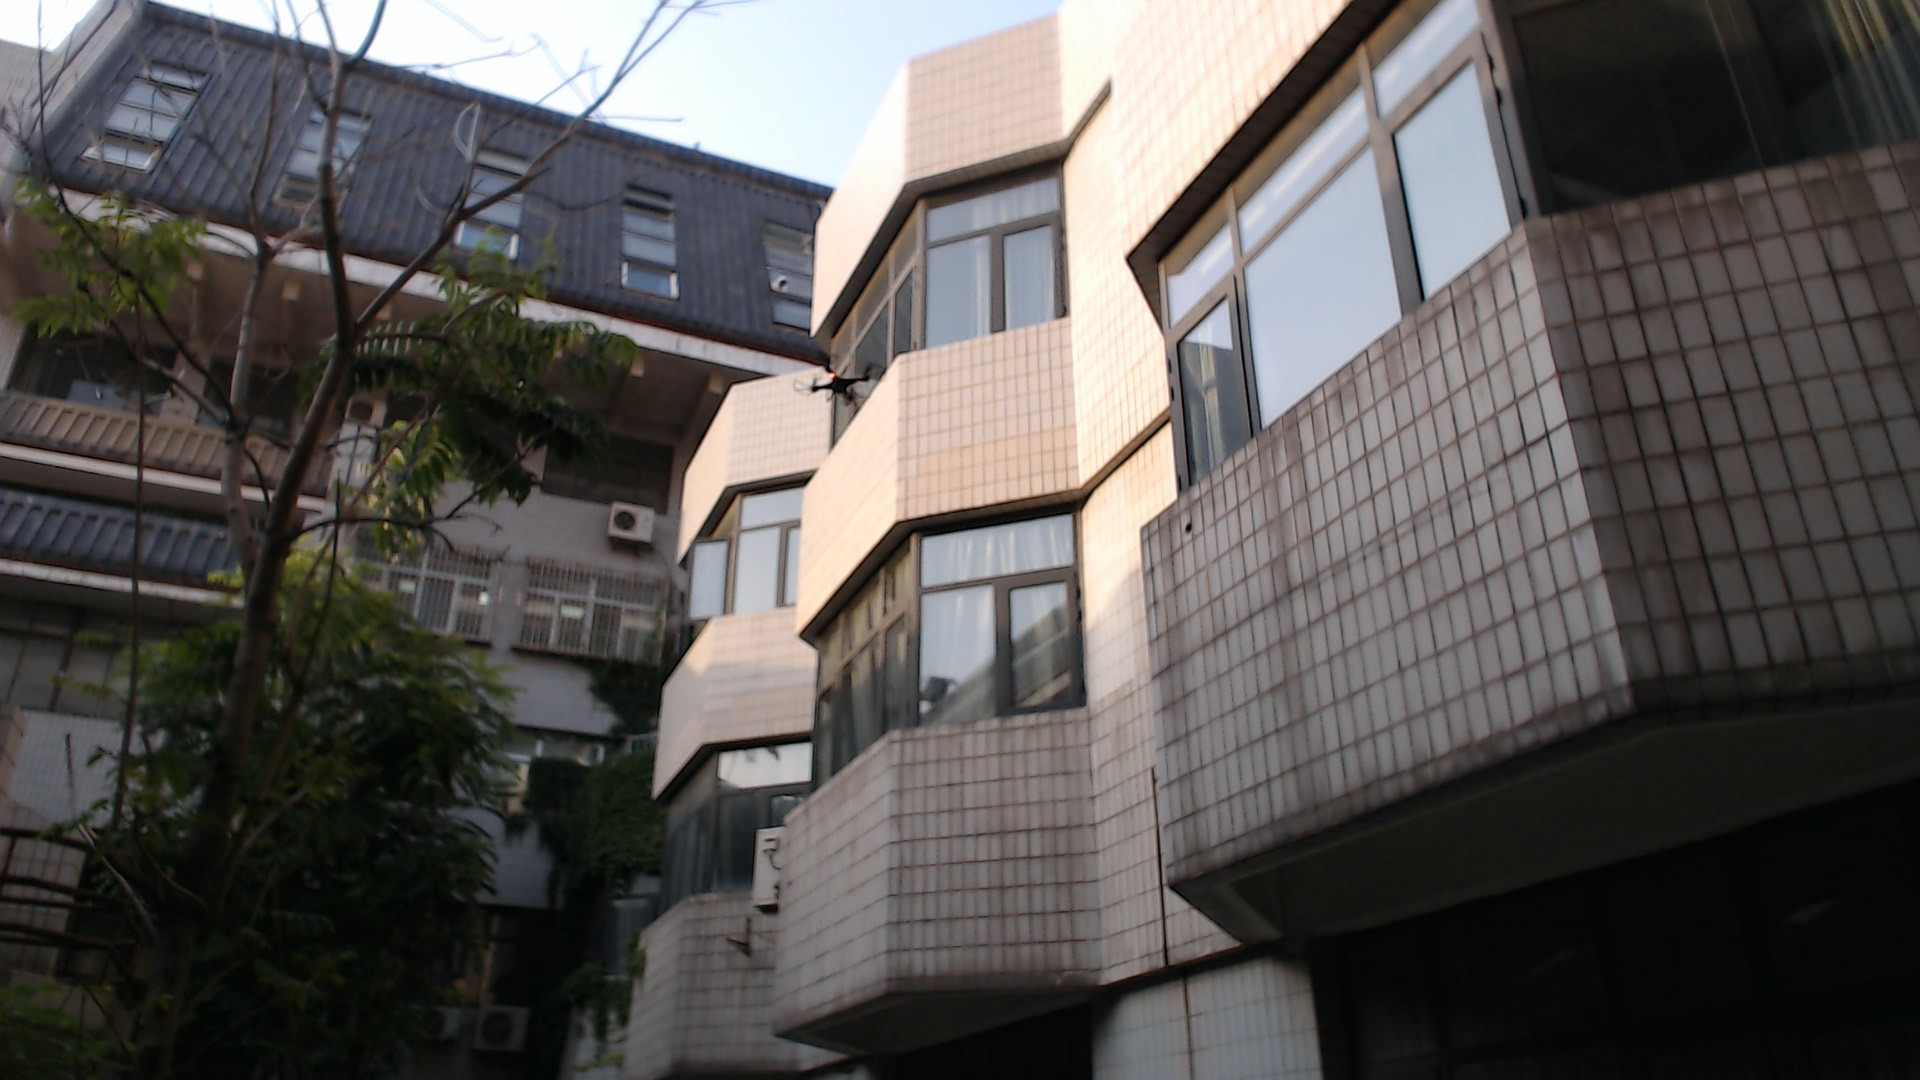drone: (770, 322, 899, 425)
